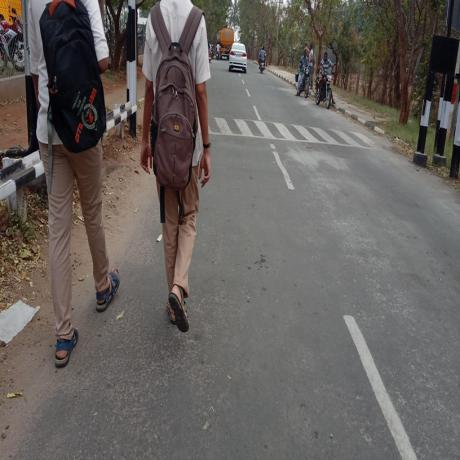Speed Bump: (210, 113, 375, 153)
